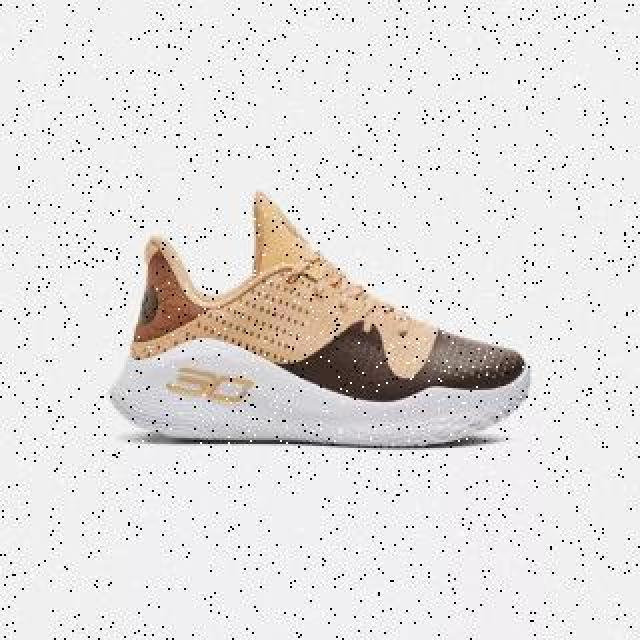shoes: (109, 189, 533, 447)
